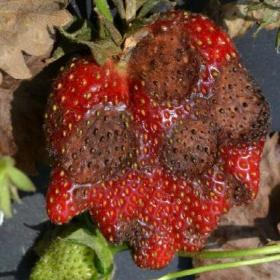Anthracnose Fruit Rot: (43, 9, 273, 265)
